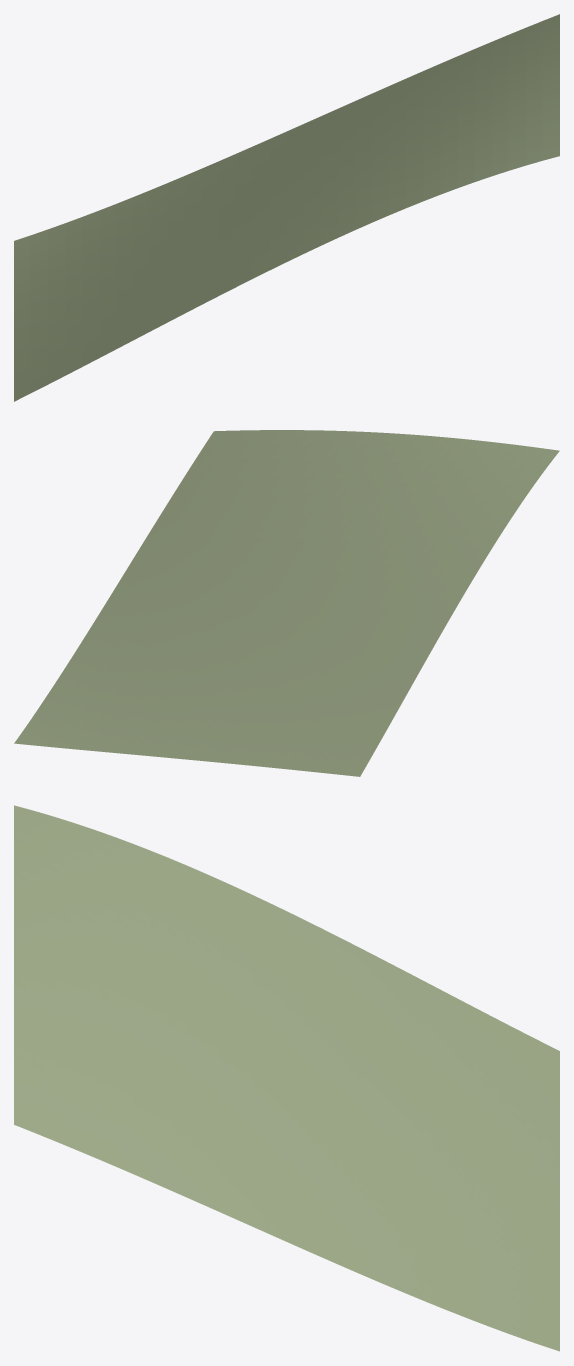
The model's file is expanse-21-2.glb.
3 views of the same model, one above another, from view 1: azimuth 90°, elevation 25°; view 2: azimuth 150°, elevation 25°; view 3: azimuth 270°, elevation 25° (orthographic). The views are drawn at different scales.
Parts seen in each view (by area): view 1: expanse-21-2; view 2: expanse-21-2; view 3: expanse-21-2.
Boxes of the visible parts, x1,y1,x2,y2 form: expanse-21-2: (14,14,559,401); expanse-21-2: (14,430,559,776); expanse-21-2: (14,805,559,1351).
Bounding box in the file's own units: 256 × 163 × 256.
